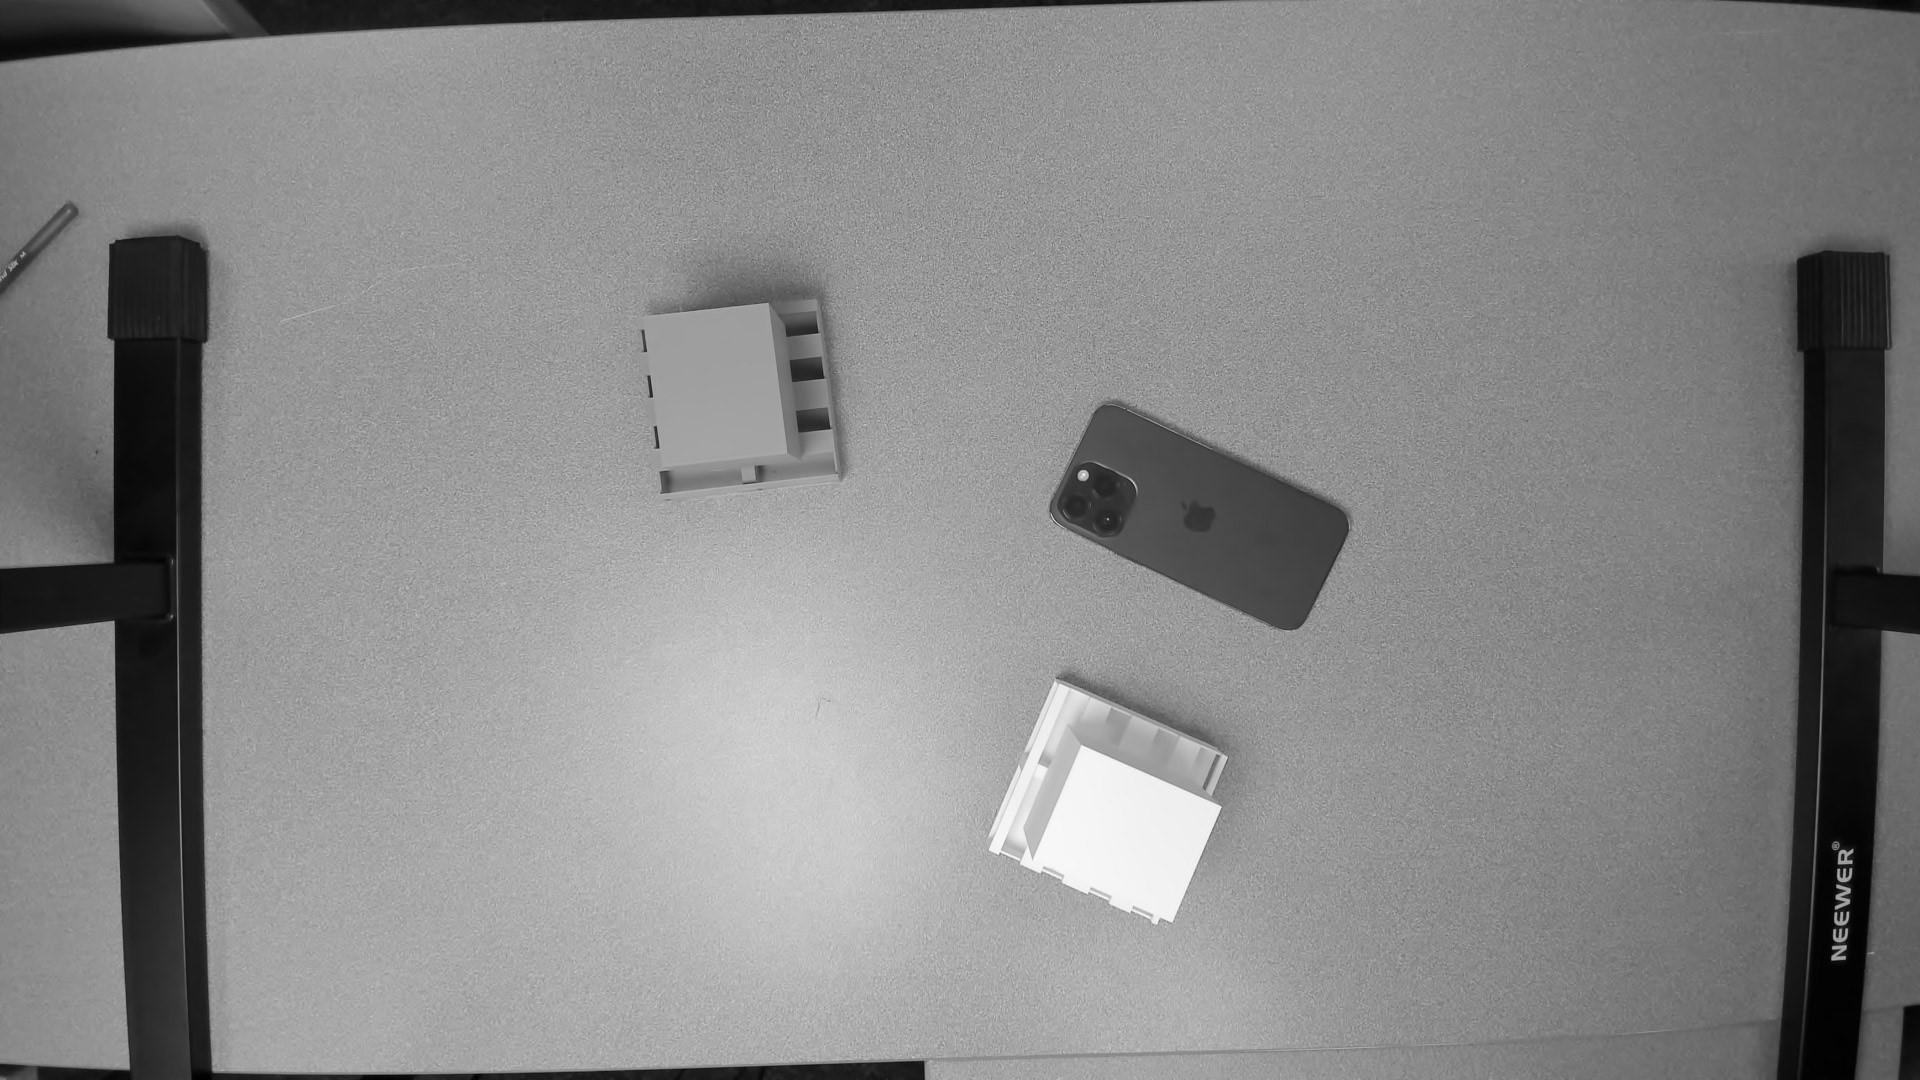grey pallet: (629, 285, 861, 514)
white pallet: (985, 671, 1232, 945)
